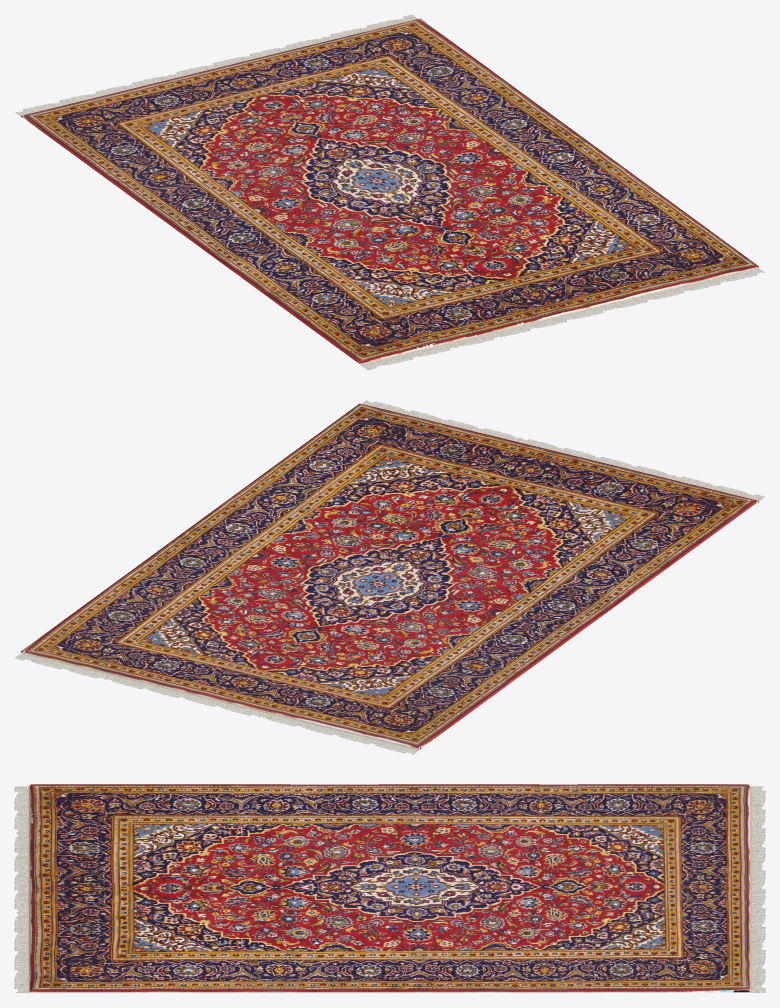
File: keshan-rohdan.glb
3 renders of one model, top to bottom at view 1: azimuth 30°, elevation 25°; view 2: azimuth 150°, elevation 25°; view 3: azimuth 270°, elevation 25°, orthographic. The views are drawn at different scales.
Parts seen in each view (by area): view 1: rug; view 2: rug; view 3: rug.
Part boxes in pixels (bbox=[...]): rug: bbox=[15, 14, 764, 370]; rug: bbox=[15, 400, 764, 754]; rug: bbox=[14, 784, 765, 992].
Bounding box in the file's own units: 2.1 × 0.0153 × 3.22.
9 materials, 8 textured.
